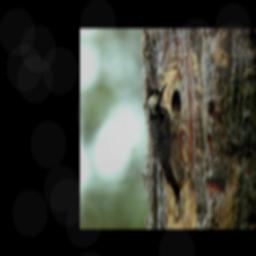Woodpecker: (142, 79, 189, 213)
